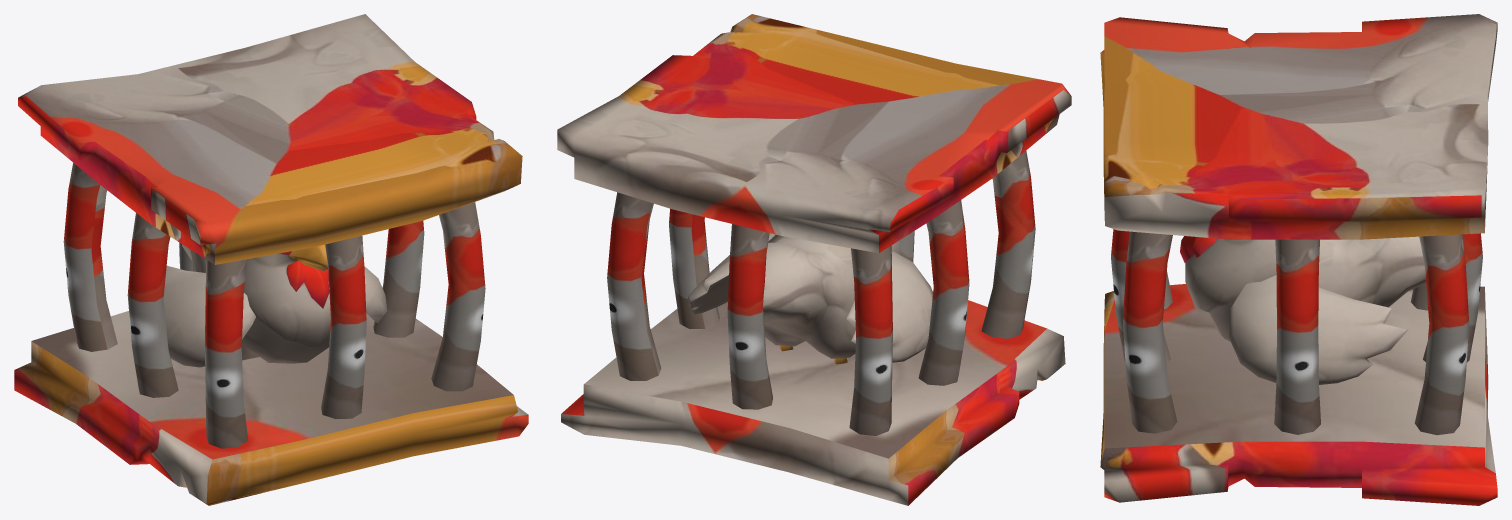
The model's file is angry-chickens.glb.
3 views of the same model, side by side, from view 1: azimuth 30°, elevation 25°; view 2: azimuth 150°, elevation 25°; view 3: azimuth 270°, elevation 25° (orthographic). The views are drawn at different scales.
Parts seen in each view (by area): view 1: angry-chickens; view 2: angry-chickens; view 3: angry-chickens.
Boxes of the visible parts, <box> form: angry-chickens: <box>14,14,528,505</box>; angry-chickens: <box>557,14,1071,505</box>; angry-chickens: <box>1100,14,1497,505</box>.
Bounding box in the file's own units: 1.27 × 1.02 × 1.15.
Materials: 1 (1 with a texture image).
